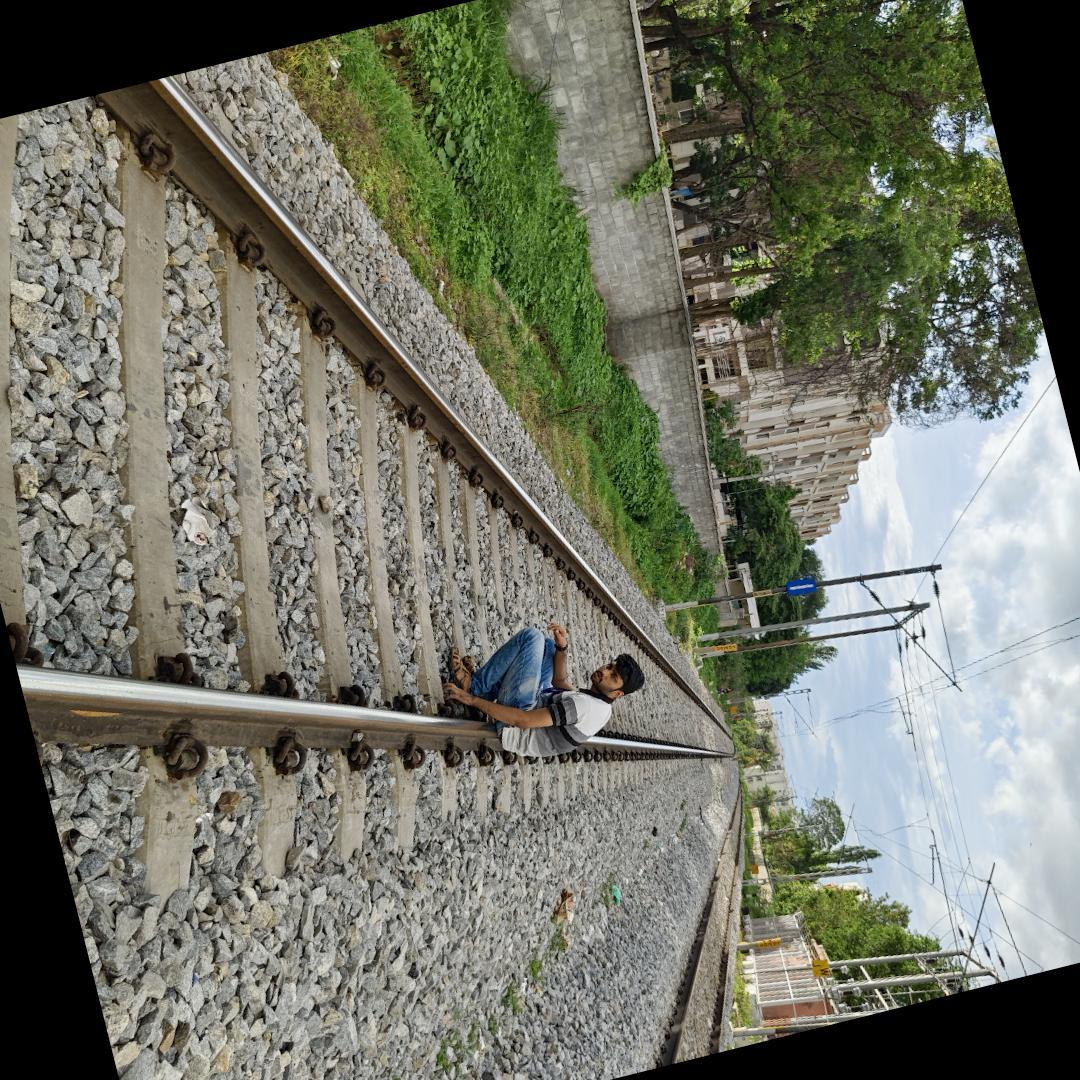sitting: (423, 582, 671, 786)
